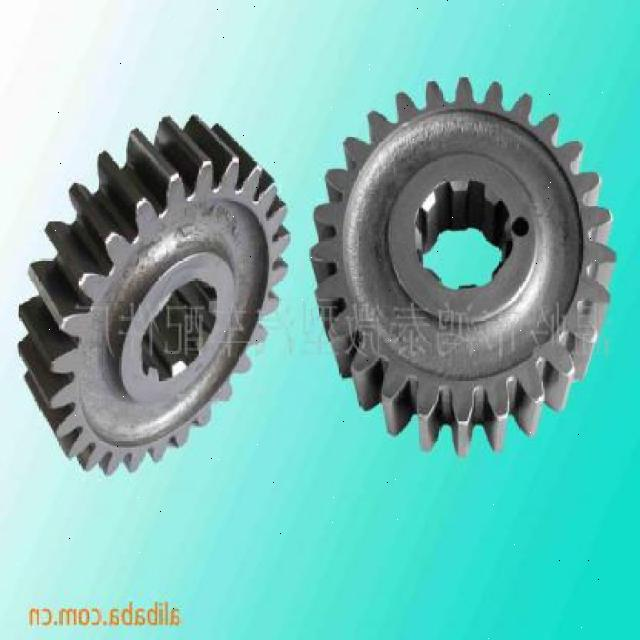Gear: (308, 76, 616, 456), (17, 111, 295, 475)
